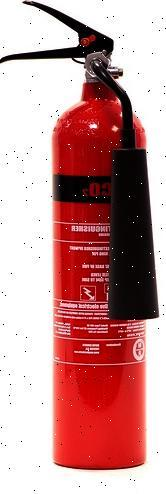Fire Extinguisher: (7, 0, 166, 477)
